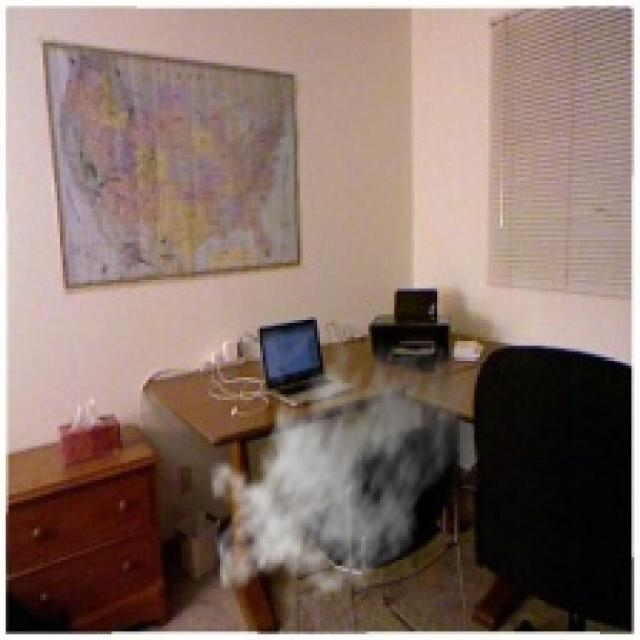smoke: (208, 323, 472, 606)
